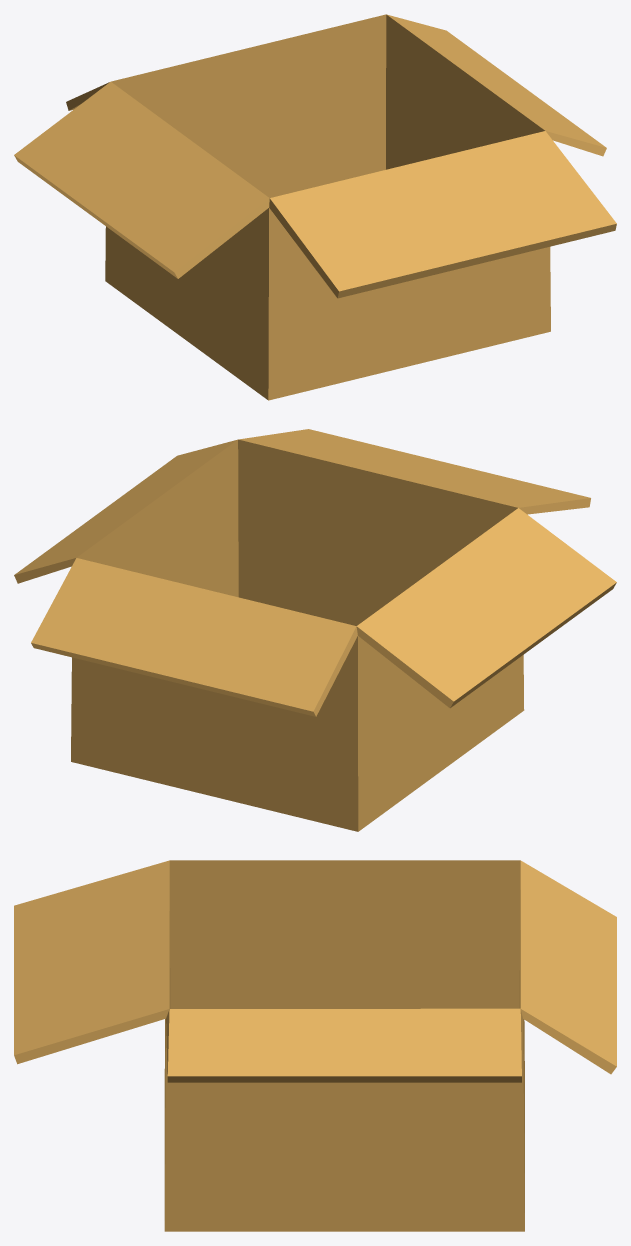
File: trashBox1.fbx
The picture shows the model from 3 angles, top to bottom: view 1: azimuth 30°, elevation 25°; view 2: azimuth 150°, elevation 25°; view 3: azimuth 270°, elevation 25°; orthographic projection. The views are drawn at different scales.
Parts seen in each view (by area): view 1: Plane; view 2: Plane; view 3: Plane.
Part boxes in pixels (bbox=[...]): Plane: bbox=[14, 14, 616, 400]; Plane: bbox=[14, 429, 616, 831]; Plane: bbox=[14, 860, 616, 1231].
Bounding box in the file's own units: 211 × 93.34 × 231.
